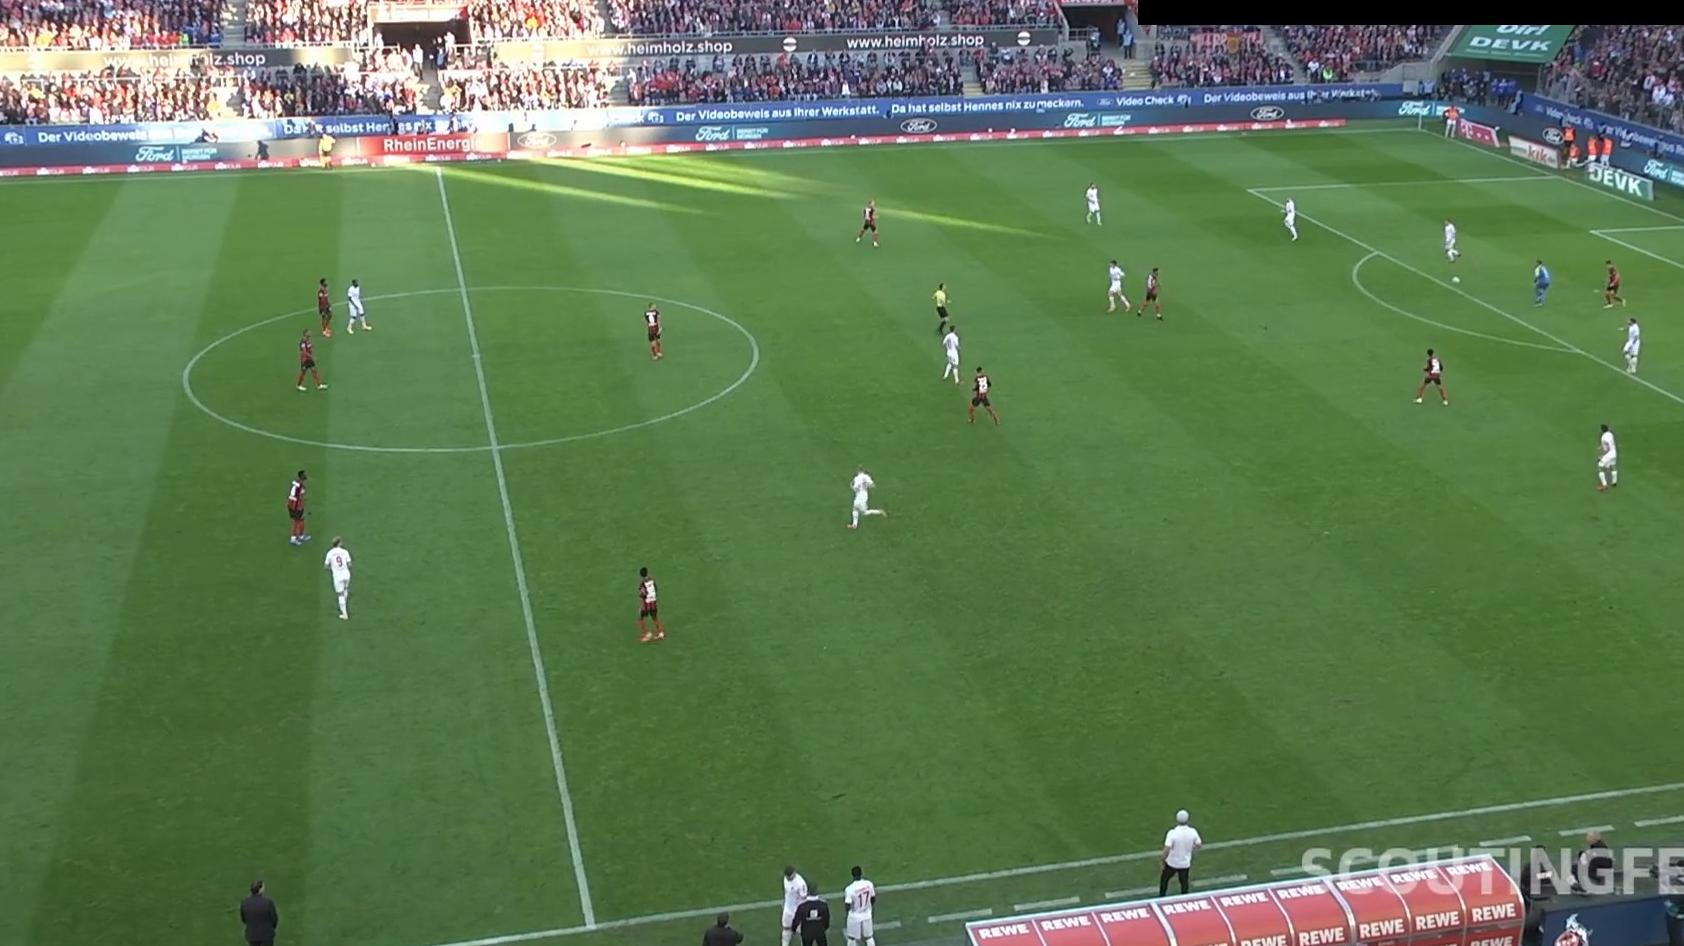ball: (1452, 274, 1461, 284)
